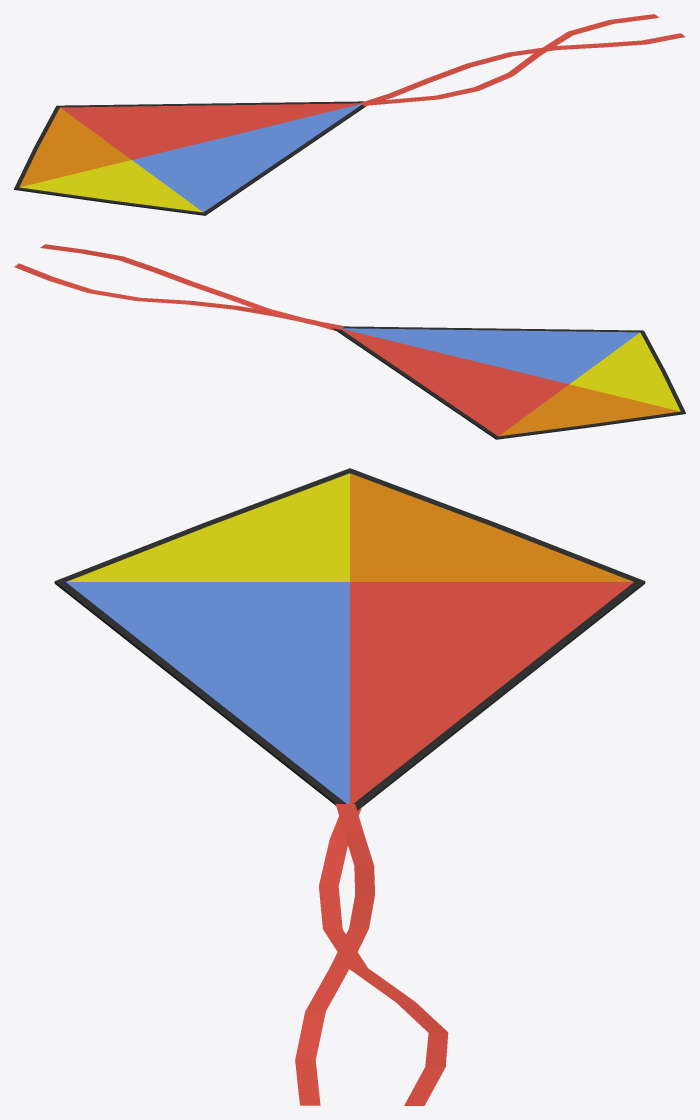
Rendered from kite.fbx.
3 views of the same model, one above another, from view 1: azimuth 30°, elevation 25°; view 2: azimuth 150°, elevation 25°; view 3: azimuth 270°, elevation 25° (orthographic). The views are drawn at different scales.
Parts seen in each view (by area): view 1: Kite; view 2: Kite; view 3: Kite.
Part boxes in pixels (x1,y1,x2,y2): Kite: [14, 14, 685, 215]; Kite: [14, 244, 685, 439]; Kite: [54, 468, 645, 1105].
Bounding box in the file's own units: 511 × 14.78 × 200.
